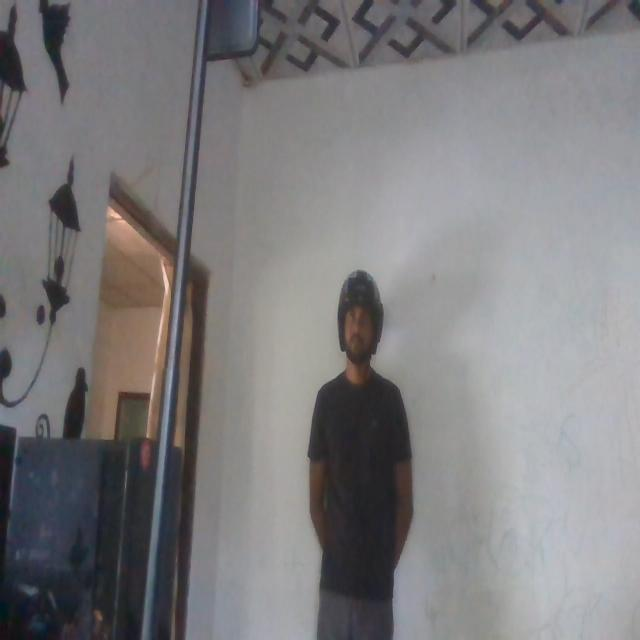Helmet_Wearer: (329, 270, 385, 374)
Person: (302, 265, 422, 640)
